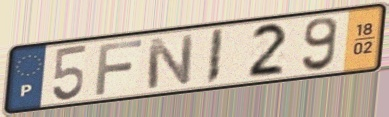2: (247, 20, 292, 81)
5: (50, 43, 89, 102)
9: (302, 15, 341, 73)
F: (93, 37, 145, 97)
I: (204, 26, 226, 87)
N: (145, 32, 196, 91)
